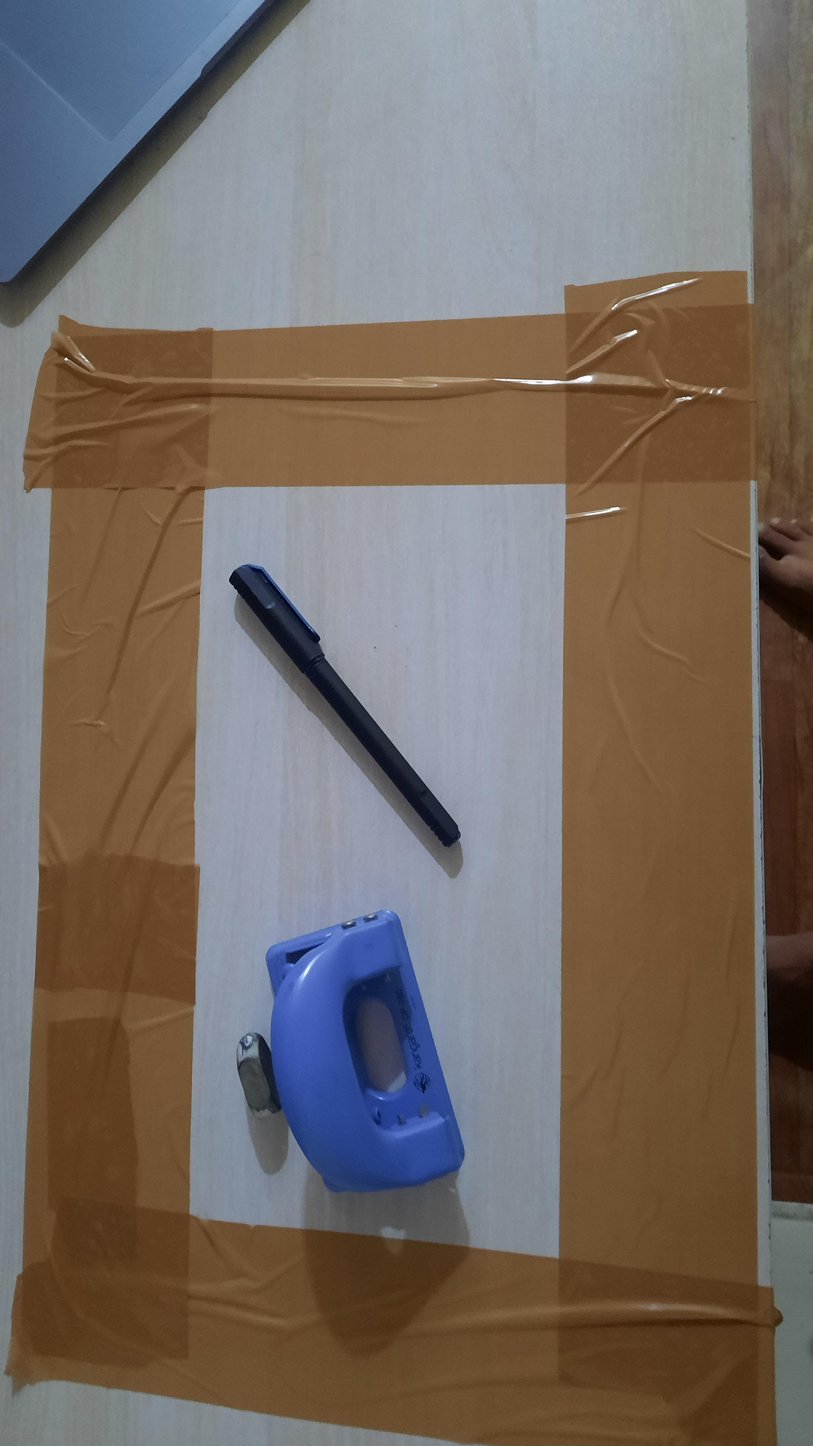Eraser: (236, 1032, 281, 1118)
Pen: (229, 563, 461, 848)
Punch: (264, 909, 466, 1194)
